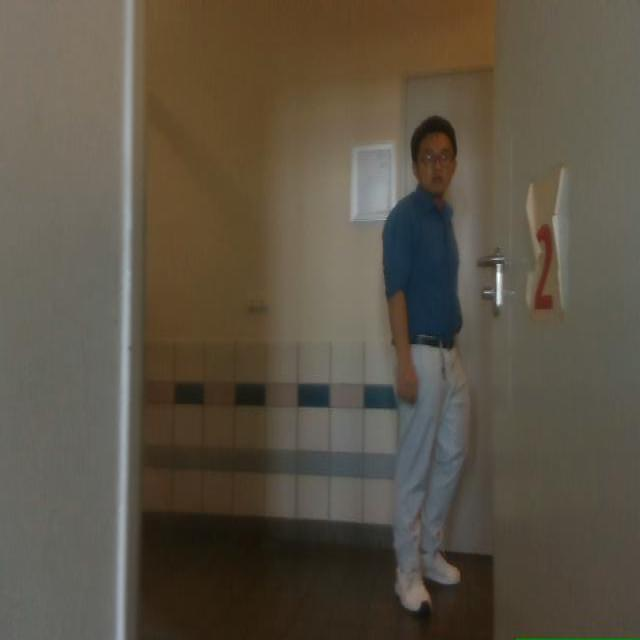humans: (383, 116, 468, 613)
objects: (480, 0, 639, 639)
